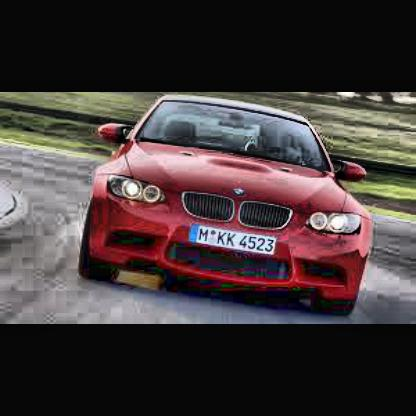BMW M3 Coupe 2012: (81, 98, 374, 315)
